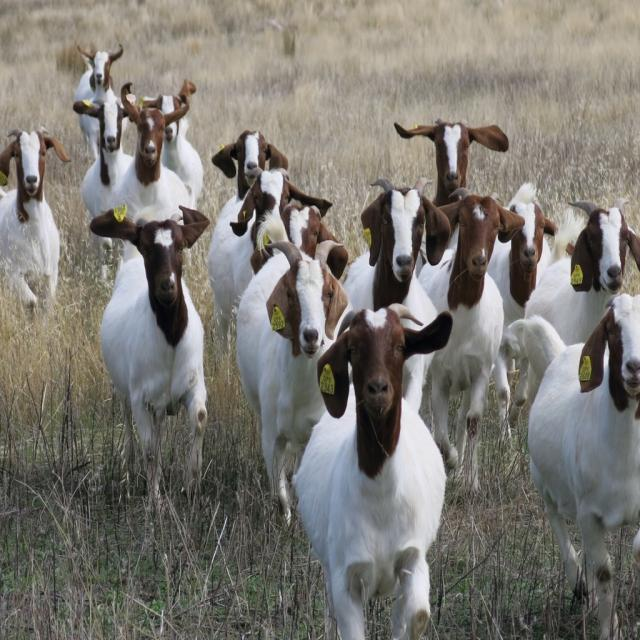Goat: (292, 302, 453, 638), (507, 292, 639, 638), (89, 201, 210, 517), (235, 238, 353, 528), (507, 196, 639, 420), (0, 124, 71, 318), (394, 117, 509, 206), (73, 42, 123, 158)
